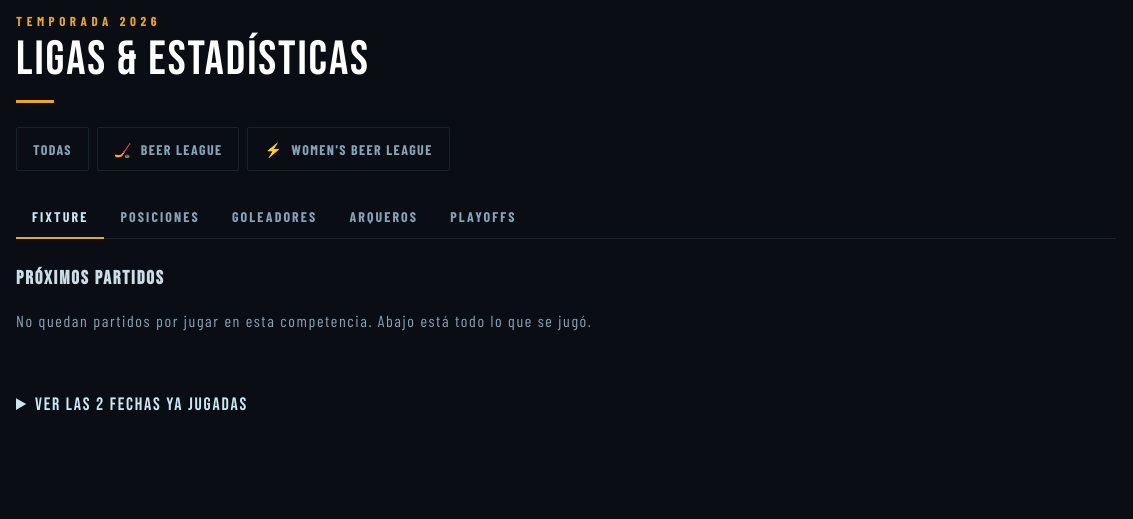
Test: LeaguesSection › says the published tables are the league own totals, with their date
The width and height of the screenshot is (1133, 519).
# Todas is the default now, so a test about ONE league's table filters first.
Click the button "🏒 Beer League". click: (168, 149)
box: [97, 127, 240, 171]
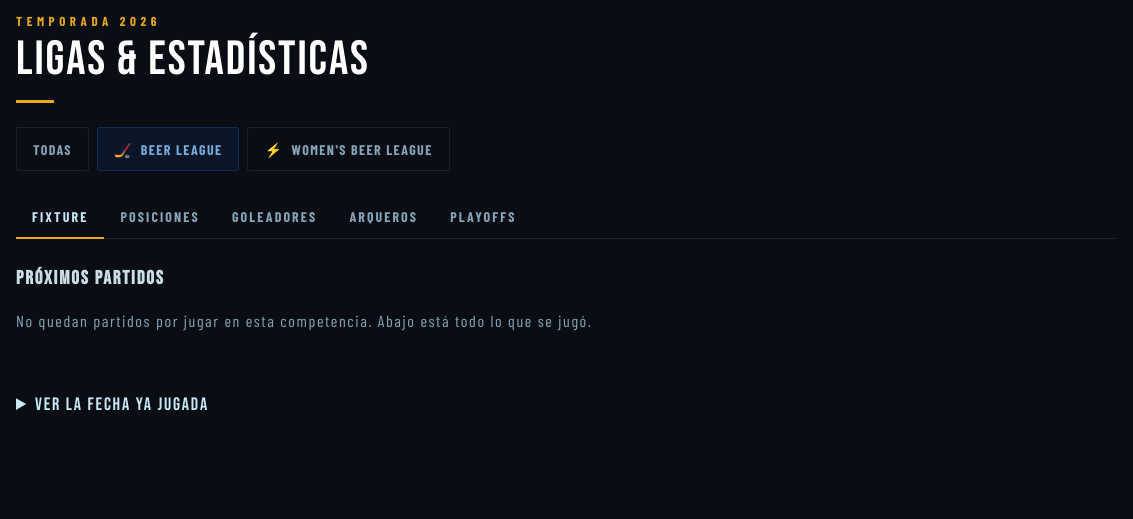
Click the tab "Goleadores". click: (275, 217)
box: [216, 195, 333, 239]
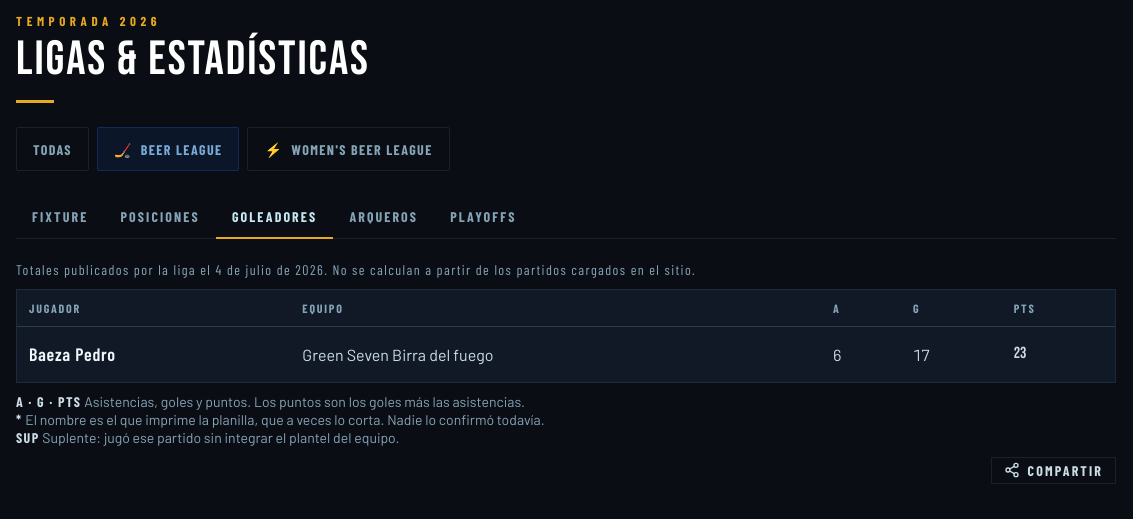
Check: the text "Totales publicados por la liga el 4 de julio de 2026" is shown, box [16, 261, 696, 278]
Click the tab "Arqueros". click: (384, 217)
box: [333, 195, 434, 239]
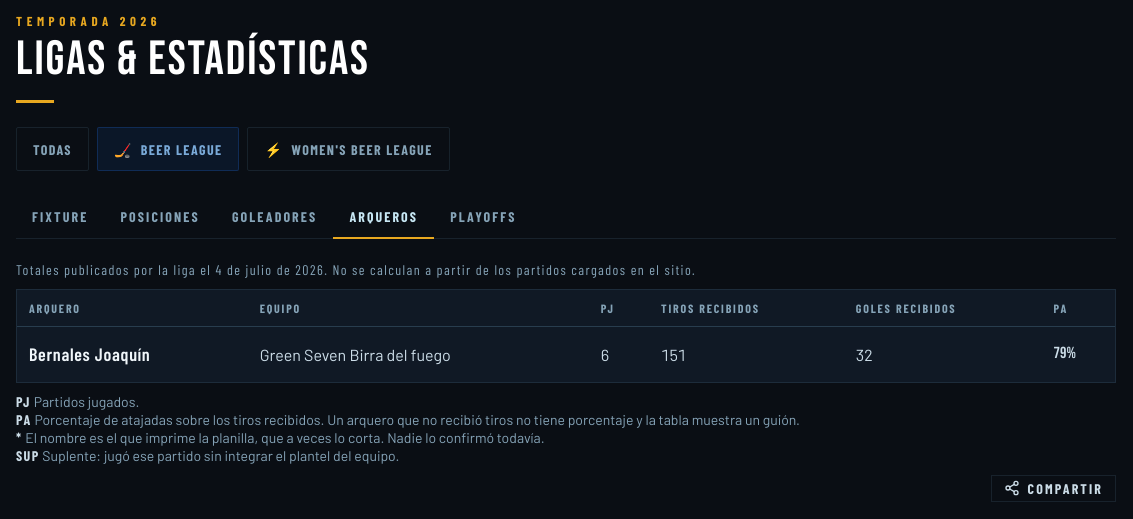
Check: the text "Totales publicados por la liga el 4 de julio de 2026" is shown, box [16, 261, 696, 278]
Check: the text "79%" is shown, box [1042, 326, 1115, 382]
